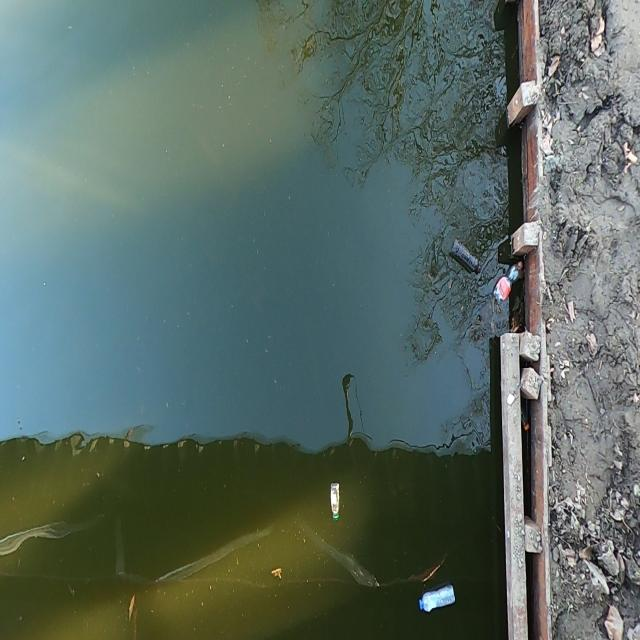Bouteille plastique: (494, 262, 524, 304), (452, 241, 481, 274), (419, 586, 454, 611), (331, 484, 340, 521)
